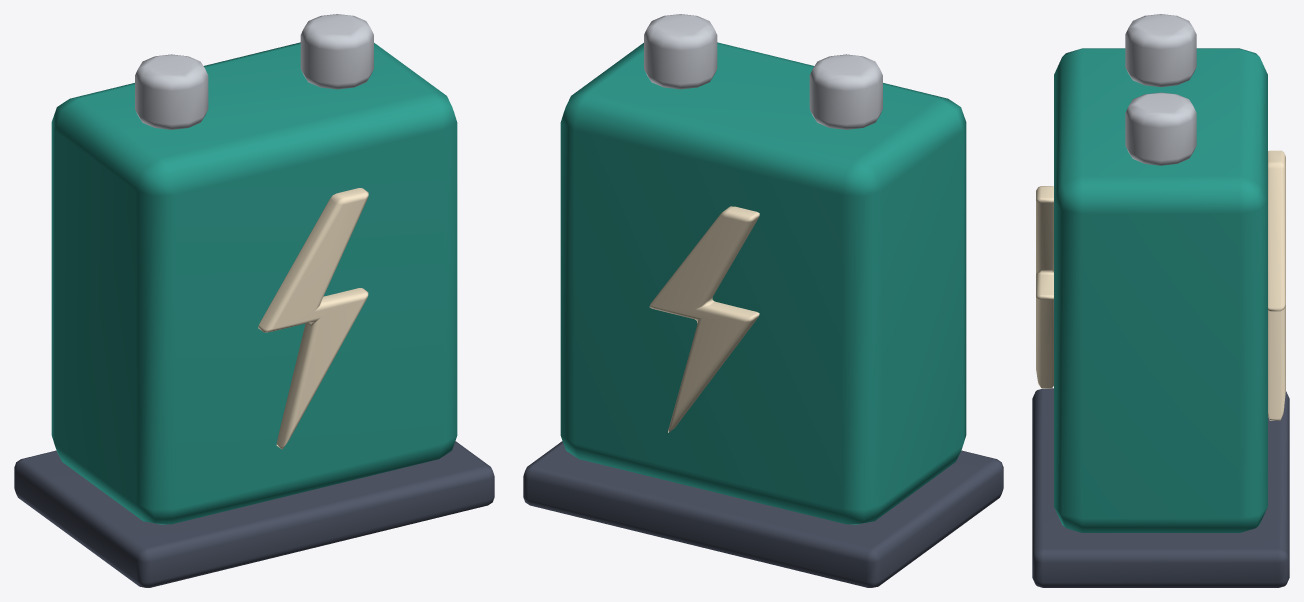
File: Part_Battery.glb
3 views of the same model, side by side, from view 1: azimuth 30°, elevation 25°; view 2: azimuth 150°, elevation 25°; view 3: azimuth 270°, elevation 25° (orthographic). The views are drawn at different scales.
Parts seen in each view (by area): view 1: Part_Battery.Body, Part_Battery.Plinth, Part_Battery.Bolt, Part_Battery.Terminals; view 2: Part_Battery.Body, Part_Battery.Plinth, Part_Battery.Terminals, Part_Battery.Bolt; view 3: Part_Battery.Body, Part_Battery.Plinth, Part_Battery.Terminals, Part_Battery.Bolt.
Boxes of the visible parts, bbox=[...] form: Part_Battery.Body: bbox=[51, 42, 457, 524]; Part_Battery.Plinth: bbox=[14, 441, 494, 587]; Part_Battery.Bolt: bbox=[258, 188, 368, 449]; Part_Battery.Terminals: bbox=[135, 14, 373, 129]; Part_Battery.Body: bbox=[560, 42, 966, 524]; Part_Battery.Plinth: bbox=[523, 441, 1003, 587]; Part_Battery.Terminals: bbox=[644, 14, 882, 129]; Part_Battery.Bolt: bbox=[649, 206, 759, 432]; Part_Battery.Body: bbox=[1054, 48, 1267, 532]; Part_Battery.Plinth: bbox=[1032, 388, 1289, 587]; Part_Battery.Terminals: bbox=[1125, 14, 1196, 165]; Part_Battery.Bolt: bbox=[1036, 150, 1285, 420].
Bounding box in the file's own units: 0.56 × 0.685 × 0.36.
Materials: 1 (1 with a texture image).
